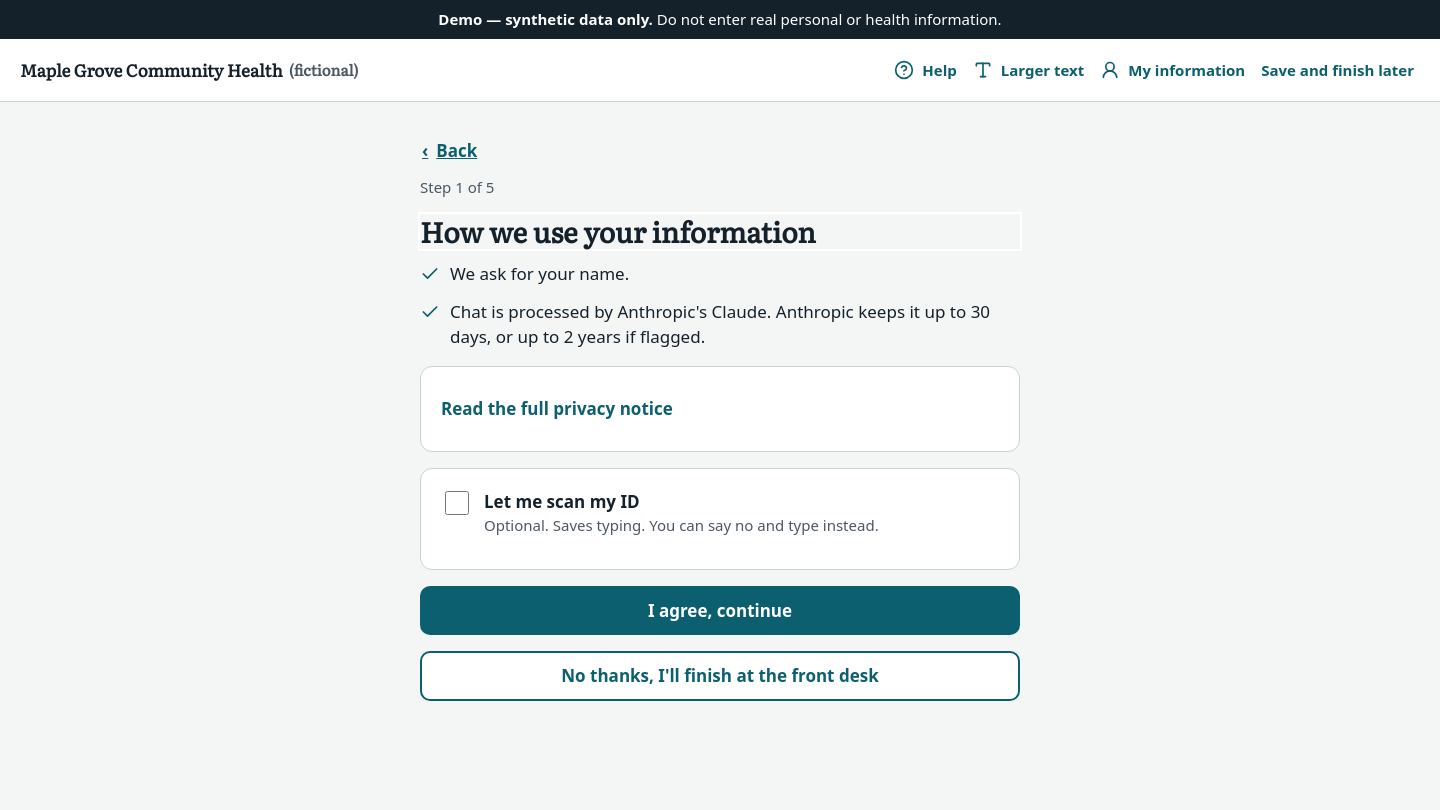
it: declining consent leads to the front desk path, not a dead end
The width and height of the screenshot is (1440, 810).
What coordinates should you click on to do the following:
click the link "No thanks, I'll finish at the front desk"
I would click on:
 (720, 676)
Its box is [420,651,1020,700].
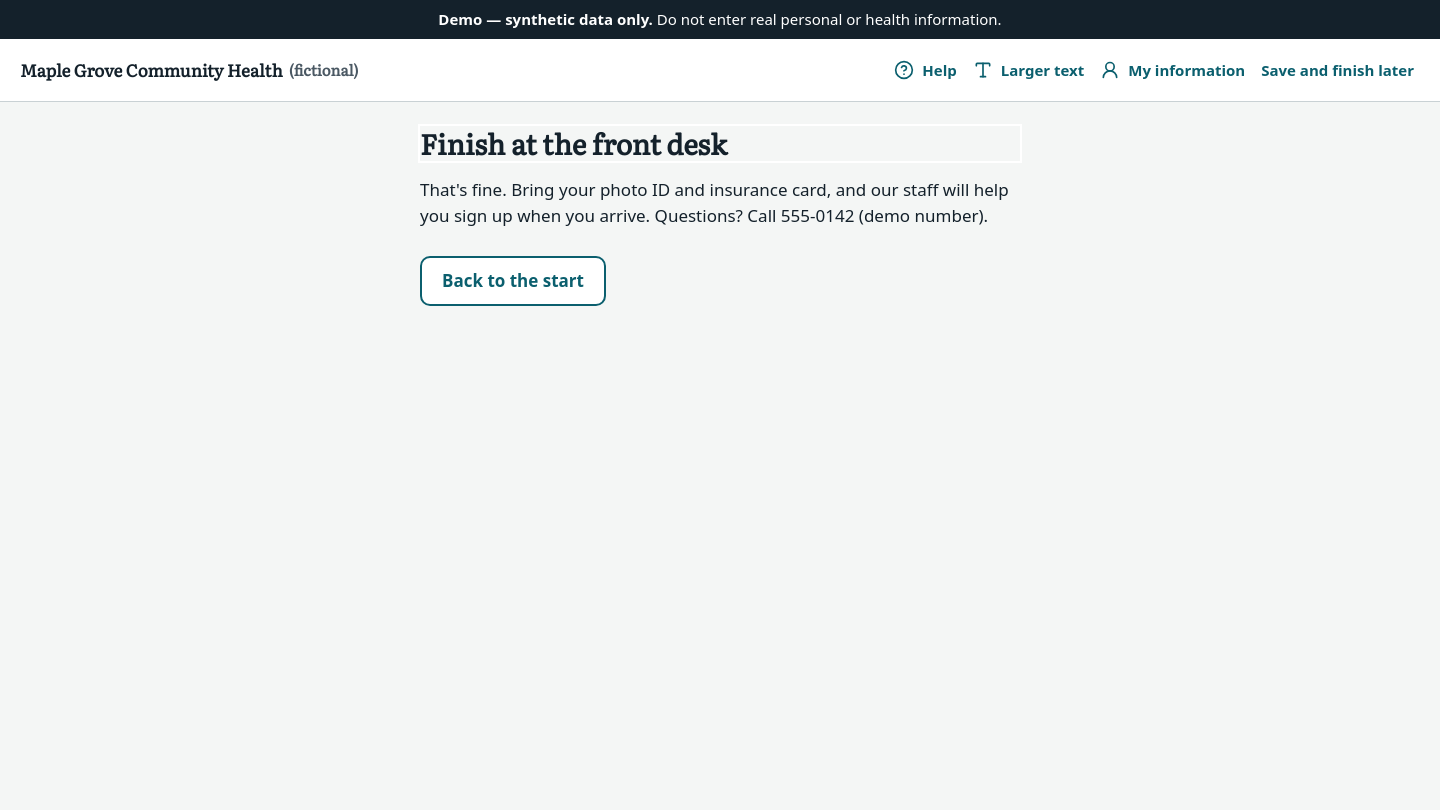
Result: the text "Bring your photo ID" is shown at [420,178,1009,226]
